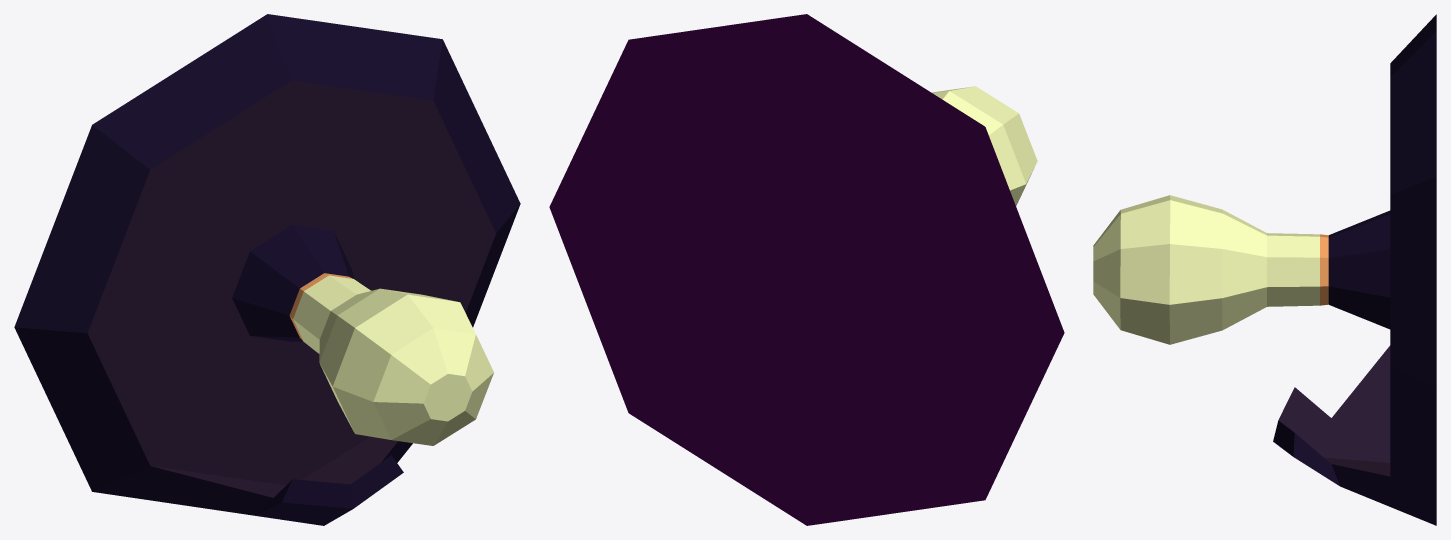
Rendered from SuporteLampada.fbx.
The picture shows the model from 3 angles, left to right: view 1: azimuth 30°, elevation 25°; view 2: azimuth 150°, elevation 25°; view 3: azimuth 270°, elevation 25°; orthographic projection. The views are drawn at different scales.
Visible parts, largest first — view 1: BaseLampada, Lampada; view 2: BaseLampada, Lampada; view 3: BaseLampada, Lampada.
Part boxes in pixels (<box>): BaseLampada: <box>14,14,520,525</box>; Lampada: <box>289,273,493,445</box>; BaseLampada: <box>549,14,1064,525</box>; Lampada: <box>932,86,1037,205</box>; BaseLampada: <box>1273,14,1436,525</box>; Lampada: <box>1093,195,1328,344</box>.
Size of the model in its own units: 0.8245 by 0.7829 by 0.5091.
